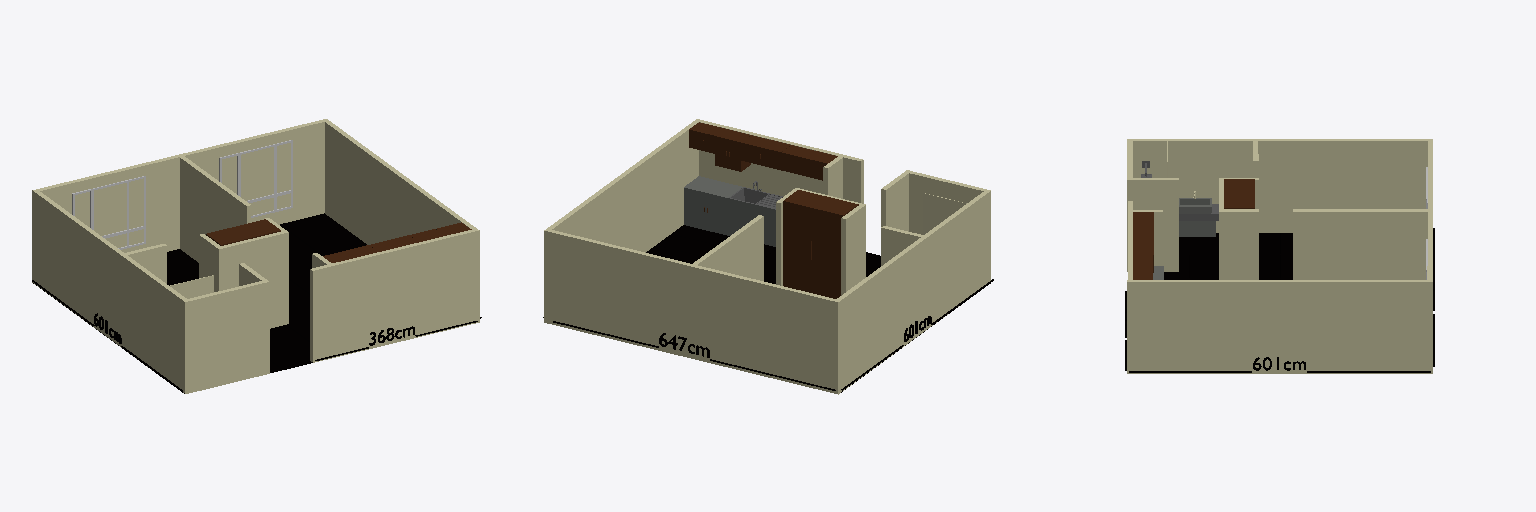
3 views of the same model, side by side, from view 1: azimuth 30°, elevation 25°; view 2: azimuth 150°, elevation 25°; view 3: azimuth 270°, elevation 25° (orthographic).
Visible parts, largest first — view 1: backwall, frontwall, leftwall, rightwall, frontwall2, floor, middlewall, entrywall, tallCabinet, windowwall, brwall, crwall (+3 smaller); view 2: backwall, leftwall, rightwall, tallCabinet, frontwall, middlewall, floor, sinktable.003, crwall, frontwall2, leftentrywall, sinktable.001 (+10 smaller); view 3: rightwall, leftwall, middlewall, floor, middlewall2, leftentrywall, tallCabinet, Text, backwall, sinkCabinet.001, kitchenwall, crsink.001.
Part boxes in pixels (left/top/right/bottom): backwall: left=37, top=120, right=324, bottom=252; frontwall: left=310, top=230, right=474, bottom=362; leftwall: left=32, top=189, right=189, bottom=393; rightwall: left=323, top=119, right=479, bottom=323; frontwall2: left=188, top=281, right=264, bottom=392; floor: left=33, top=213, right=366, bottom=393; middlewall: left=180, top=156, right=250, bottom=262; entrywall: left=218, top=230, right=288, bottom=328; tallCabinet: left=206, top=219, right=280, bottom=245; windowwall: left=219, top=140, right=292, bottom=217; brwall: left=125, top=244, right=166, bottom=283; crwall: left=199, top=234, right=220, bottom=291; backwall: left=549, top=230, right=835, bottom=392; leftwall: left=834, top=190, right=990, bottom=394; rightwall: left=544, top=119, right=700, bottom=323; tallCabinet: left=783, top=190, right=858, bottom=298; frontwall: left=699, top=120, right=863, bottom=203; middlewall: left=693, top=215, right=763, bottom=280; floor: left=646, top=225, right=990, bottom=392; sinktable.003: left=684, top=176, right=742, bottom=235; crwall: left=841, top=204, right=865, bottom=295; frontwall2: left=909, top=171, right=986, bottom=234; leftentrywall: left=881, top=170, right=910, bottom=231; sinktable.001: left=728, top=198, right=775, bottom=246; rightwall: left=1127, top=280, right=1432, bottom=373; leftwall: left=1127, top=139, right=1432, bottom=232; middlewall: left=1293, top=209, right=1427, bottom=279; floor: left=1164, top=233, right=1292, bottom=279; middlewall2: left=1219, top=209, right=1258, bottom=279; leftentrywall: left=1127, top=178, right=1178, bottom=271; tallCabinet: left=1224, top=179, right=1254, bottom=208; Text: left=1129, top=357, right=1430, bottom=372; backwall: left=1427, top=141, right=1432, bottom=279; sinkCabinet.001: left=1179, top=221, right=1215, bottom=236; kitchenwall: left=1133, top=210, right=1162, bottom=265; crsink.001: left=1179, top=198, right=1211, bottom=213.
Size of the model in its own units: 6.82 by 2.02 by 6.08.